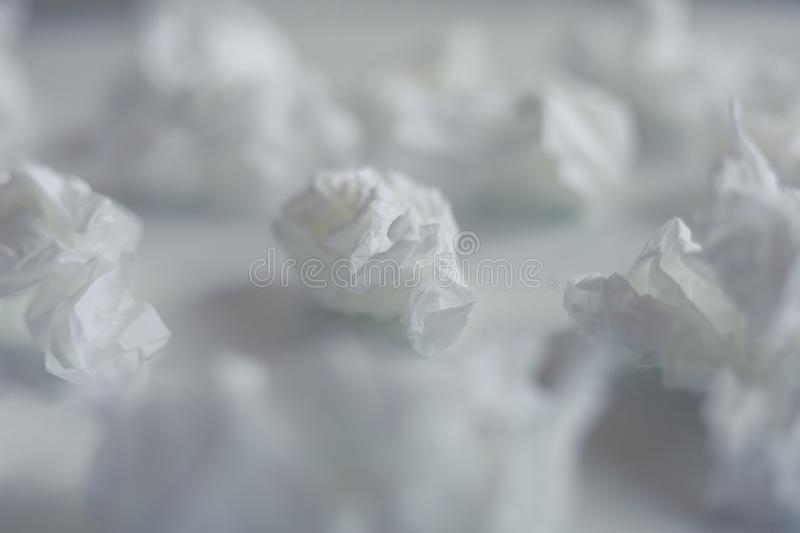Tissue: (1, 150, 175, 405), (266, 163, 482, 359)
